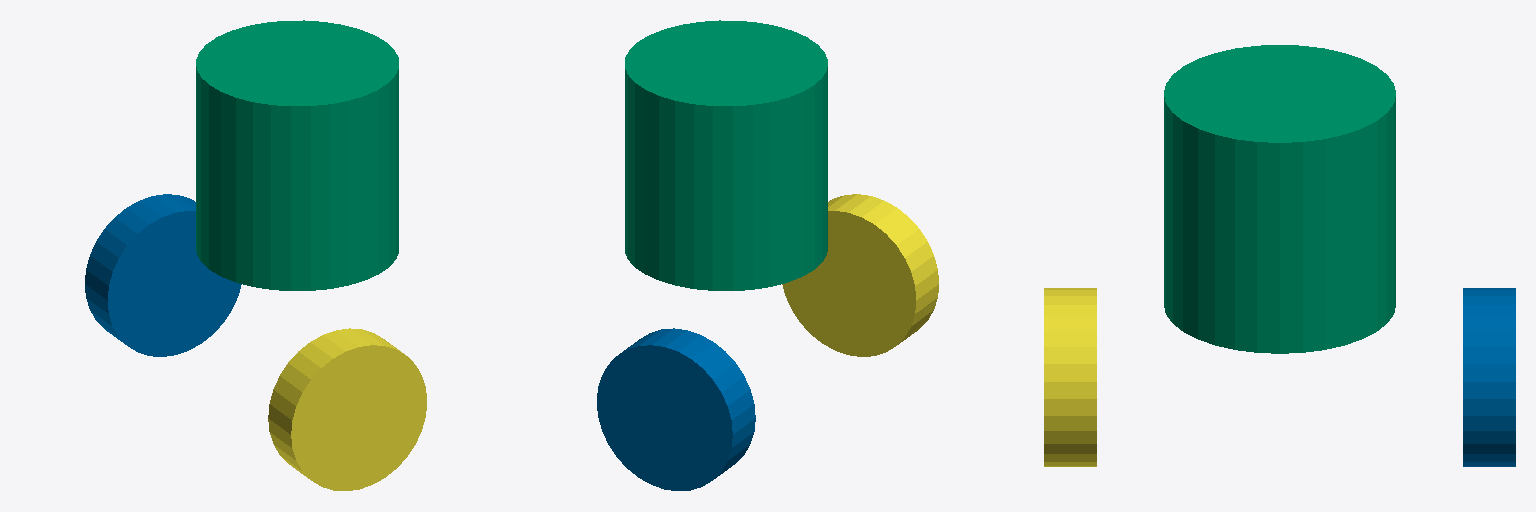
The robot description file, URDF, robot "patrol_robot":
<?xml version="1.0" ?>
<robot name="patrol_robot">

  <link name="base_footprint"/>

  <link name="base_link">
    <inertial>
      <mass value="2"/>
      <origin xyz="0.2 0.1397 0.01" rpy="1.5708 0 -1.5708" />
      <inertia
        ixx="0.0635" ixy="0.0" ixz="0.0"
        iyy="0.0635" iyz="0.0"
        izz="0.0651"/>
    </inertial>

    <visual>
      <origin xyz="0.2 0.1397 0.01" rpy="1.5708 0 -1.5708" /> 
      <geometry>
        <mesh filename="package://robot_desc/meshes/body_link2.stl" scale="0.001 0.001 0.001"/>
      </geometry>
      <material name="white">
        <color rgba="1 1 1 1"/>
      </material>
    </visual>

    <collision>
      <geometry>
        <mesh filename="package://robot_desc/meshes/body_link2.stl" scale="0.001 0.001 0.001"/>
    </geometry>
      <contact_coefficients mu="1" mu2="1" kp="1e+13.0" kd="1.0"/>
    </collision>
  </link>

  <joint name="base_joint" type="fixed">
      <parent link="base_footprint"/>
      <child link="base_link"/>
      <origin xyz="0 0 0.04" rpy="0 0 3.14159"/> 
  </joint>

  <link name="weight">
    <inertial>
      <mass value="7"/>
      <inertia ixx="0.03225" ixy="0.0"  ixz="0.0" iyy="0.03225" iyz="0.0" izz="0.02764"/>
      <origin xyz="0 0 0" rpy="0 0 0"/>  
    </inertial>
    <visual>
        <geometry>
            <cylinder length="0.1778" radius="0.0889" />
        </geometry>
    </visual>
    <collision>
        <geometry>
            <cylinder length="0.1778" radius="0.0889" />
        </geometry>
    </collision>    
  </link>
  <joint name="weight_joint" type="fixed">
      <parent link="base_footprint"/>
      <child link="weight"/>
      <origin xyz="0 0 0.25" rpy="0 0 0"/>
  </joint>

  <link name="right_wheel">
    <inertial>
      <mass value="0.75"/>
      <inertia ixx="0.001444223" iyy="0.00280875" izz="0.001444223" ixy="0.0" ixz="0.0" iyz="0.0"/>
      <origin xyz="0 0 0" rpy="0 0 0"/>
    </inertial>
    <visual>
        <geometry>
          <cylinder length="0.04" radius="0.06858" />
        </geometry>
    </visual>
    <collision>
        <geometry>
          <cylinder length="0.04" radius="0.06858" />
        </geometry>
    </collision>      
  </link>   
  
  <joint name="right_wheel_joint" type="continuous">
    <origin xyz="0.042 0.16 0.04  " rpy="1.5708 0.0 0.0"/>
    <parent link="base_link"/>
    <child link="right_wheel"/>
    <axis xyz="0.0 0 1"/>
  </joint>

  <link name="left_wheel">
    <inertial>
      <mass value="0.75"/>
      <inertia ixx="0.001444223" iyy="0.00280875" izz="0.001444223" ixy="0.0" ixz="0.0" iyz="0.0" />
      <origin xyz="0 0 0" rpy="0 0 0"/>
    </inertial>
    <visual>
        <geometry>
            <cylinder length="0.04" radius="0.06858" />
        </geometry>
    </visual>
    <collision>
        <geometry>
            <cylinder length="0.04" radius="0.06858" />
        </geometry>
    </collision>    
  </link>
  
  <joint name="left_wheel_joint" type="continuous">
    <origin xyz="0.042 -0.16 0.04" rpy="1.5708 0.0 0.0"/>
    <parent link="base_link"/>
    <child link="left_wheel"/>
    <axis xyz="0.0 0 1"/>
  </joint>
  
  
  <link name="caster">
    <inertial>
      <mass value="1.5"/>
      <inertia ixx="0.0001295" iyy="0.0001295" izz="0.000199322" ixy="0.0" ixz="0.0" iyz="0.0" />
      <origin/>
    </inertial>

    <visual>
      <geometry>
        <mesh filename="package://robot_desc/meshes/front_caster.stl"/>
      </geometry>
      <material name="white">
        <color rgba="1 1 1 1"/>
      </material>
    </visual>

    <collision>
      <geometry>
        <mesh filename="package://robot_desc/meshes/front_caster.stl"/>
      </geometry>
      <contact_coefficients mu="0" kp="1000.0" kd="1.0"/>
    </collision>

    <collision>
      <origin xyz="0 0 0" rpy="0 0 0"/>
      <geometry>
        <sphere radius="0.04"/> 
      </geometry>
    </collision>
  </link>
  
  <joint name="caster_joint" type="continuous">
    <origin xyz="0.3 0 0" rpy="0.0 0.0 0.0"/> #0.3 0 0  
    <axis xyz="0 0 1" />
    <parent link="base_link"/>
    <child link="caster"/>
  </joint>  

  <link name="camera_link">
  </link>

  <joint name="camera_joint" type="fixed">
    <origin xyz="-0.16 0.0 0.08" rpy="0 0.0 3.14"/>
    <parent link="base_link"/>
    <child link="camera_link"/>
    <axis xyz="0.0 0.0 1.0"/>
  </joint>

  <gazebo reference="camera_link">
      <sensor type="camera" name="Botcamera">
        <update_rate>30.0</update_rate>
        <pose>
          <position>0 0 0</position>
          <orientation>0 0 0</orientation>
        </pose>
        <camera name="head">
          <horizontal_fov>1.3962634</horizontal_fov>
          <image>
            <width>800</width>
            <height>800</height>
            <format>R8G8B8</format>
          </image>
          <clip>
            <near>0.02</near>
            <far>300</far>
          </clip>
          <noise>
            <type>gaussian</type>
            <mean>0.0</mean>
            <stddev>0.007</stddev>
          </noise>
        </camera>
        <plugin name="camera_controller" filename="libgazebo_ros_camera.so">
          <alwaysOn>true</alwaysOn>
          <updateRate>0.0</updateRate>
          <cameraName>/Botcamera</cameraName>
          <imageTopicName>image_raw</imageTopicName>
          <cameraInfoTopicName>camera_info</cameraInfoTopicName>
          <frameName>camera_link</frameName>
          <hackBaseline>0.07</hackBaseline>
        </plugin>
      </sensor>
      <material>Gazebo/Blue</material>
  </gazebo>

  <link name="imu_link">
  </link>
  <joint name="imu_joint" type="fixed">
    <parent link="base_footprint"/>
    <child link="imu_link"/>
    <origin xyz="0.0 0 0" rpy="0 0 0"/>
  </joint>


  <link name="lidar_link">
    <visual>
        <origin xyz="0 -0.0009 -0.011" rpy="1.5708 0 -1.5708"/>
        <geometry>
            <mesh filename="package://robot_desc/meshes/rplidar.dae" scale="0.001 0.001 0.001"/>
        </geometry>
    </visual> 
    <collision>
        <origin xyz="0 -0.0028 0" rpy="0 0 0"/>
        <geometry>
            <cylinder radius="0.037" length="0.021"/>
        </geometry>
    </collision>
    <inertial>
      <mass value="0.07"/>
      <origin xyz="0 0 0" rpy="0 0 0"/>
      <inertia 
        ixx="0.000262" ixy="0.0" ixz="0.0" 
        iyy="0.000262" iyz="0.0" 
        izz="0.000048"/>
    </inertial>
  </link>

  <joint name="lidar_joint" type="fixed">
      <parent link="base_link"/>
      <child link="lidar_link"/>
      <origin xyz="0 0 0.77" rpy="0 0 0"/>
      <axis xyz="0 0 1"/>
  </joint>

  <gazebo reference="lidar_link">
      <sensor name="lidar" type="ray">
          <pose>0 0 0 0 0 0</pose>
          <always_on>true</always_on>
          <visualize>true</visualize>
          <update_rate>10</update_rate>
          <ray>
              <scan>
                  <horizontal>
                      <samples>360</samples>
                      <min_angle>-3.14</min_angle>
                      <max_angle>3.14</max_angle>
                  </horizontal>
              </scan>
              <range>
                  <min>0.15</min>
                  <max>6.0</max>
                  <resolution>0.01500</resolution>
          </range>
              <noise>
                  <type>gaussian</type>
                  <mean>0.0</mean>
                  <stddev>0.01</stddev>
              </noise>
          </ray>
          <plugin name="lidar_controller" filename="libgazebo_ros_ray_sensor.so">
              <ros>
              <remapping>~/out:=scan</remapping>
              </ros>
              <output_type>sensor_msgs/LaserScan</output_type>
              <frame_name>lidar_link</frame_name>
          </plugin>
      </sensor>
  </gazebo>

  <gazebo>
    <plugin filename="libgazebo_ros_diff_drive.so" name="gazebo_base_controller">
      <odometry_frame>odom</odometry_frame>
      <commandTopic>cmd_vel</commandTopic>
      <publish_odom>true</publish_odom>
      <publish_odom_tf>true</publish_odom_tf>
      <update_rate>10.0</update_rate>
      <left_joint>left_wheel_joint</left_joint>
      <right_joint>right_wheel_joint</right_joint>
      <wheel_separation>0.8</wheel_separation>   <wheel_diameter>0.3</wheel_diameter>       <max_wheel_acceleration>0.7</max_wheel_acceleration>
      <robotBaseFrame>base_link</robotBaseFrame>
    </plugin>
  </gazebo>


  <gazebo reference="base_link">
    <material>Gazebo/Gray</material>
  </gazebo>
  <gazebo reference="caster">
    <material>Gazebo/White</material>
  </gazebo>
  
  <gazebo reference="right_wheel">
    <material>Gazebo/Orange</material>
  </gazebo>
  <gazebo reference="left_wheel">
    <material>Gazebo/Orange</material>
  </gazebo>   

  <ros2_control name="robot_hardware" type="system">
      <hardware>
          <plugin>diffdrive_arduino/DiffDriveArduinoHardware</plugin>
              <param name="left_wheel_name">left_wheel_joint</param>
              <param name="right_wheel_name">right_wheel_joint</param>
              <param name="loop_rate">30</param>
              <param name="device">/dev/ttyUSB0</param>
              <param name="baud_rate">9600</param>
      </hardware>
      <joint name="left_wheel_joint">
          <command_interface name="velocity"/>
          <state_interface name="position"/>
          <state_interface name="velocity"/>
      </joint>
      <joint name="right_wheel_joint">
          <command_interface name="velocity"/>
          <state_interface name="position"/>
          <state_interface name="velocity"/>
      </joint>
  </ros2_control>

  <transmission name="left_wheel_trans">
    <type>transmission_interface/SimpleTransmission</type>
    <joint name="left_wheel_joint">
      <hardwareInterface>hardware_interface/VelocityJointInterface</hardwareInterface>
    </joint>
    <actuator name="left_wheel_motor">
      <hardwareInterface>hardware_interface/VelocityJointInterface</hardwareInterface>
      <mechanicalReduction>1</mechanicalReduction>
    </actuator>
  </transmission>

  <transmission name="right_wheel_trans">
    <type>transmission_interface/SimpleTransmission</type>
    <joint name="right_wheel_joint">
      <hardwareInterface>hardware_interface/VelocityJointInterface</hardwareInterface>
    </joint>
    <actuator name="right_wheel_motor">
      <hardwareInterface>hardware_interface/VelocityJointInterface</hardwareInterface>
      <mechanicalReduction>1</mechanicalReduction>
    </actuator>
  </transmission>

</robot>

--- Facts derived from the render (not from the file) ---
3 views of the same robot in one strip: view 1: azimuth 30°, elevation 25°; view 2: azimuth 150°, elevation 25°; view 3: azimuth 270°, elevation 25° (orthographic).
Model patrol_robot with 9 links and 8 joints (3 continuous, 5 fixed), rooted at base_footprint, posed all joints at 0.
Visible links, largest first — view 1: weight, right_wheel, left_wheel; view 2: weight, left_wheel, right_wheel; view 3: weight, right_wheel, left_wheel.
Boxes of the visible links, bbox=[...] form: weight: bbox=[196, 20, 398, 290]; right_wheel: bbox=[268, 328, 426, 490]; left_wheel: bbox=[85, 194, 241, 356]; weight: bbox=[625, 20, 827, 290]; left_wheel: bbox=[597, 328, 755, 490]; right_wheel: bbox=[782, 194, 938, 356]; weight: bbox=[1164, 45, 1395, 353]; right_wheel: bbox=[1044, 288, 1096, 466]; left_wheel: bbox=[1463, 288, 1515, 466].
Bounding box of the posed robot: 0.1995 × 0.36 × 0.3275 m (x, y, z).
Meshes: 3 distinct files referenced, 0 mesh visuals loaded (none loaded); not drawn: 3 (reference not matched to a file when rendering).
